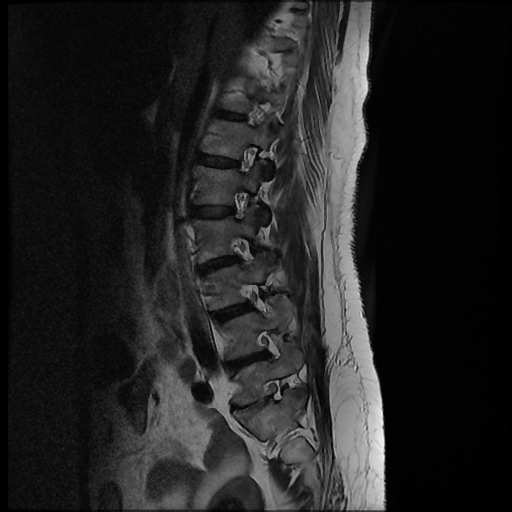RFS0: (251, 323, 289, 368), (223, 186, 263, 225)
